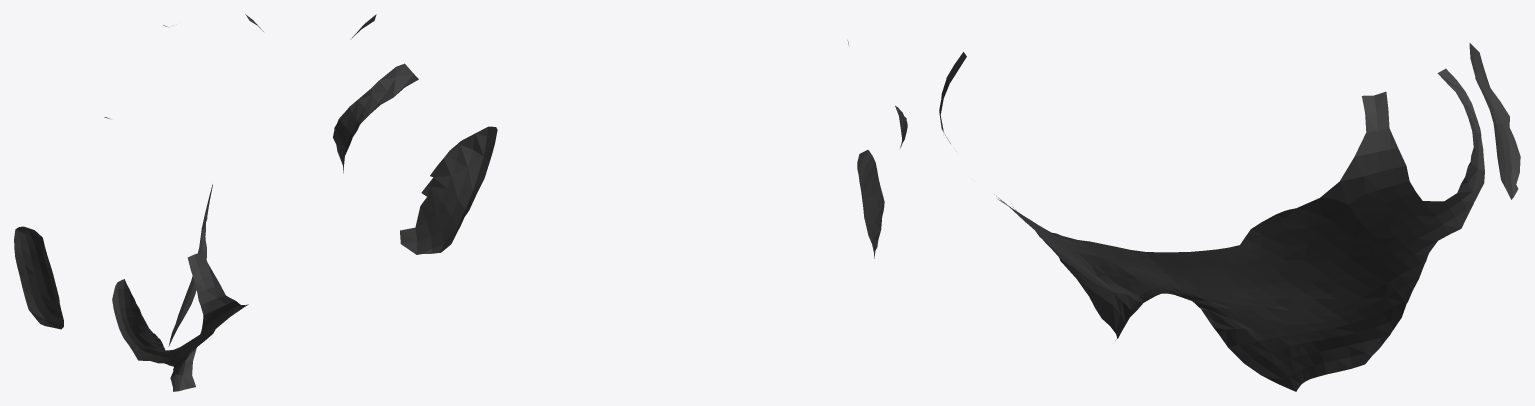
File: eq_dist_limb_Short_Pastern_Bone.glb
3 views of the same model, side by side, from view 1: azimuth 30°, elevation 25°; view 2: azimuth 150°, elevation 25°; view 3: azimuth 270°, elevation 25° (orthographic). The views are drawn at different scales.
Visible parts, largest first — view 1: eq_dist_limb_Short_Pastern_Bone; view 2: eq_dist_limb_Short_Pastern_Bone; view 3: eq_dist_limb_Short_Pastern_Bone.
Boxes of the visible parts, x1,y1,x2,y2 form: eq_dist_limb_Short_Pastern_Bone: [14, 14, 263, 391]; eq_dist_limb_Short_Pastern_Bone: [333, 14, 907, 258]; eq_dist_limb_Short_Pastern_Bone: [939, 43, 1520, 391].
Bounding box in the file's own units: 0.00711 × 0.00573 × 0.00815.
Materials: 1 (1 with a texture image).
